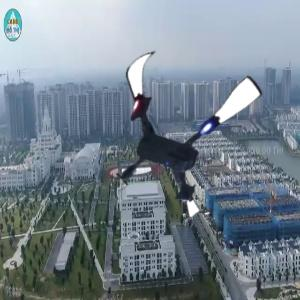drone: (90, 39, 268, 217)
